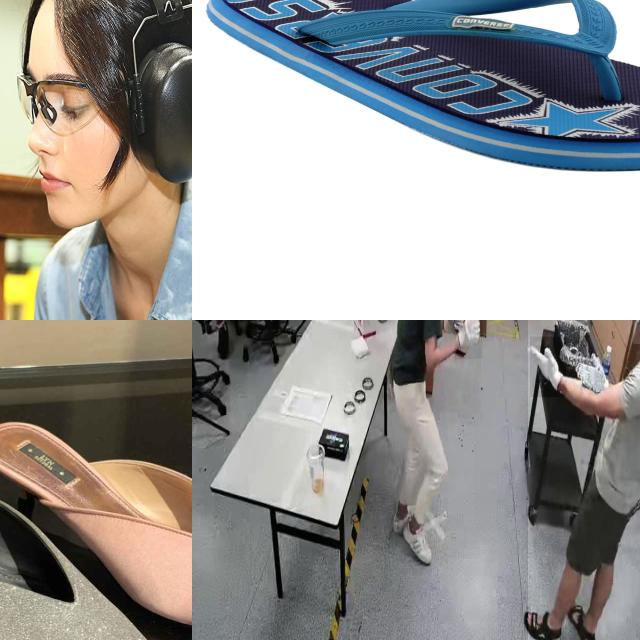Ear-protection: (129, 38, 192, 185)
Sandals: (203, 0, 640, 172), (0, 392, 192, 640), (0, 426, 192, 640)
glasses: (14, 72, 100, 138)
hand_glove: (530, 337, 566, 397), (454, 320, 483, 359)
person: (528, 320, 640, 640), (385, 320, 474, 553)
shoes: (401, 519, 433, 565), (391, 500, 419, 535)
